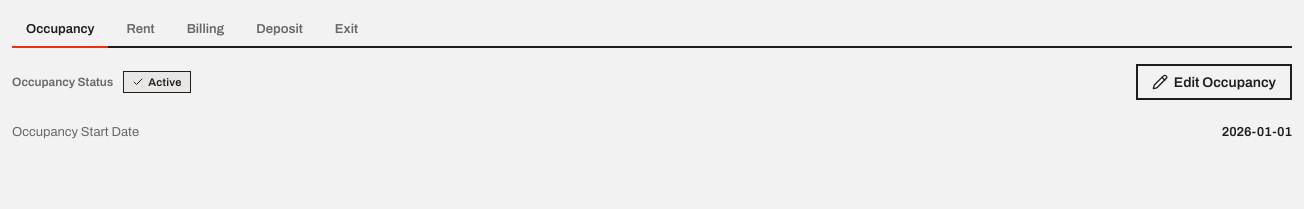
Test case: UnitOccupancyTabs — P6.3-D Part 3: Rent/Billing/Deposit/Exit reached from Unit Detail, scoped to one occupancy › switches to Rent and shows this occupancy's rent history
The image size is (1304, 209).
Click the tab "Rent".
click(141, 30)  # box [112, 12, 169, 48]
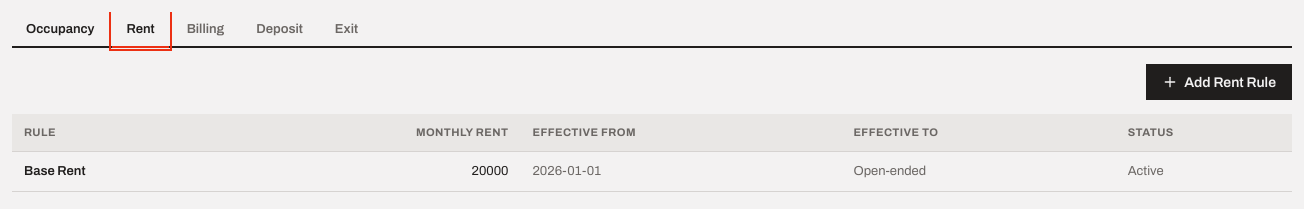
Check: the text "Base Rent" is shown, box [12, 151, 227, 192]
Check: the text "20000" is shown, box [227, 151, 520, 192]
